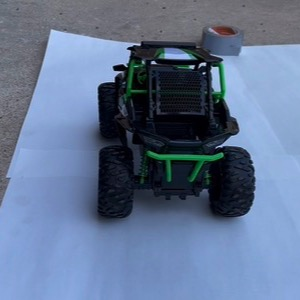polaris: (97, 42, 257, 221)
